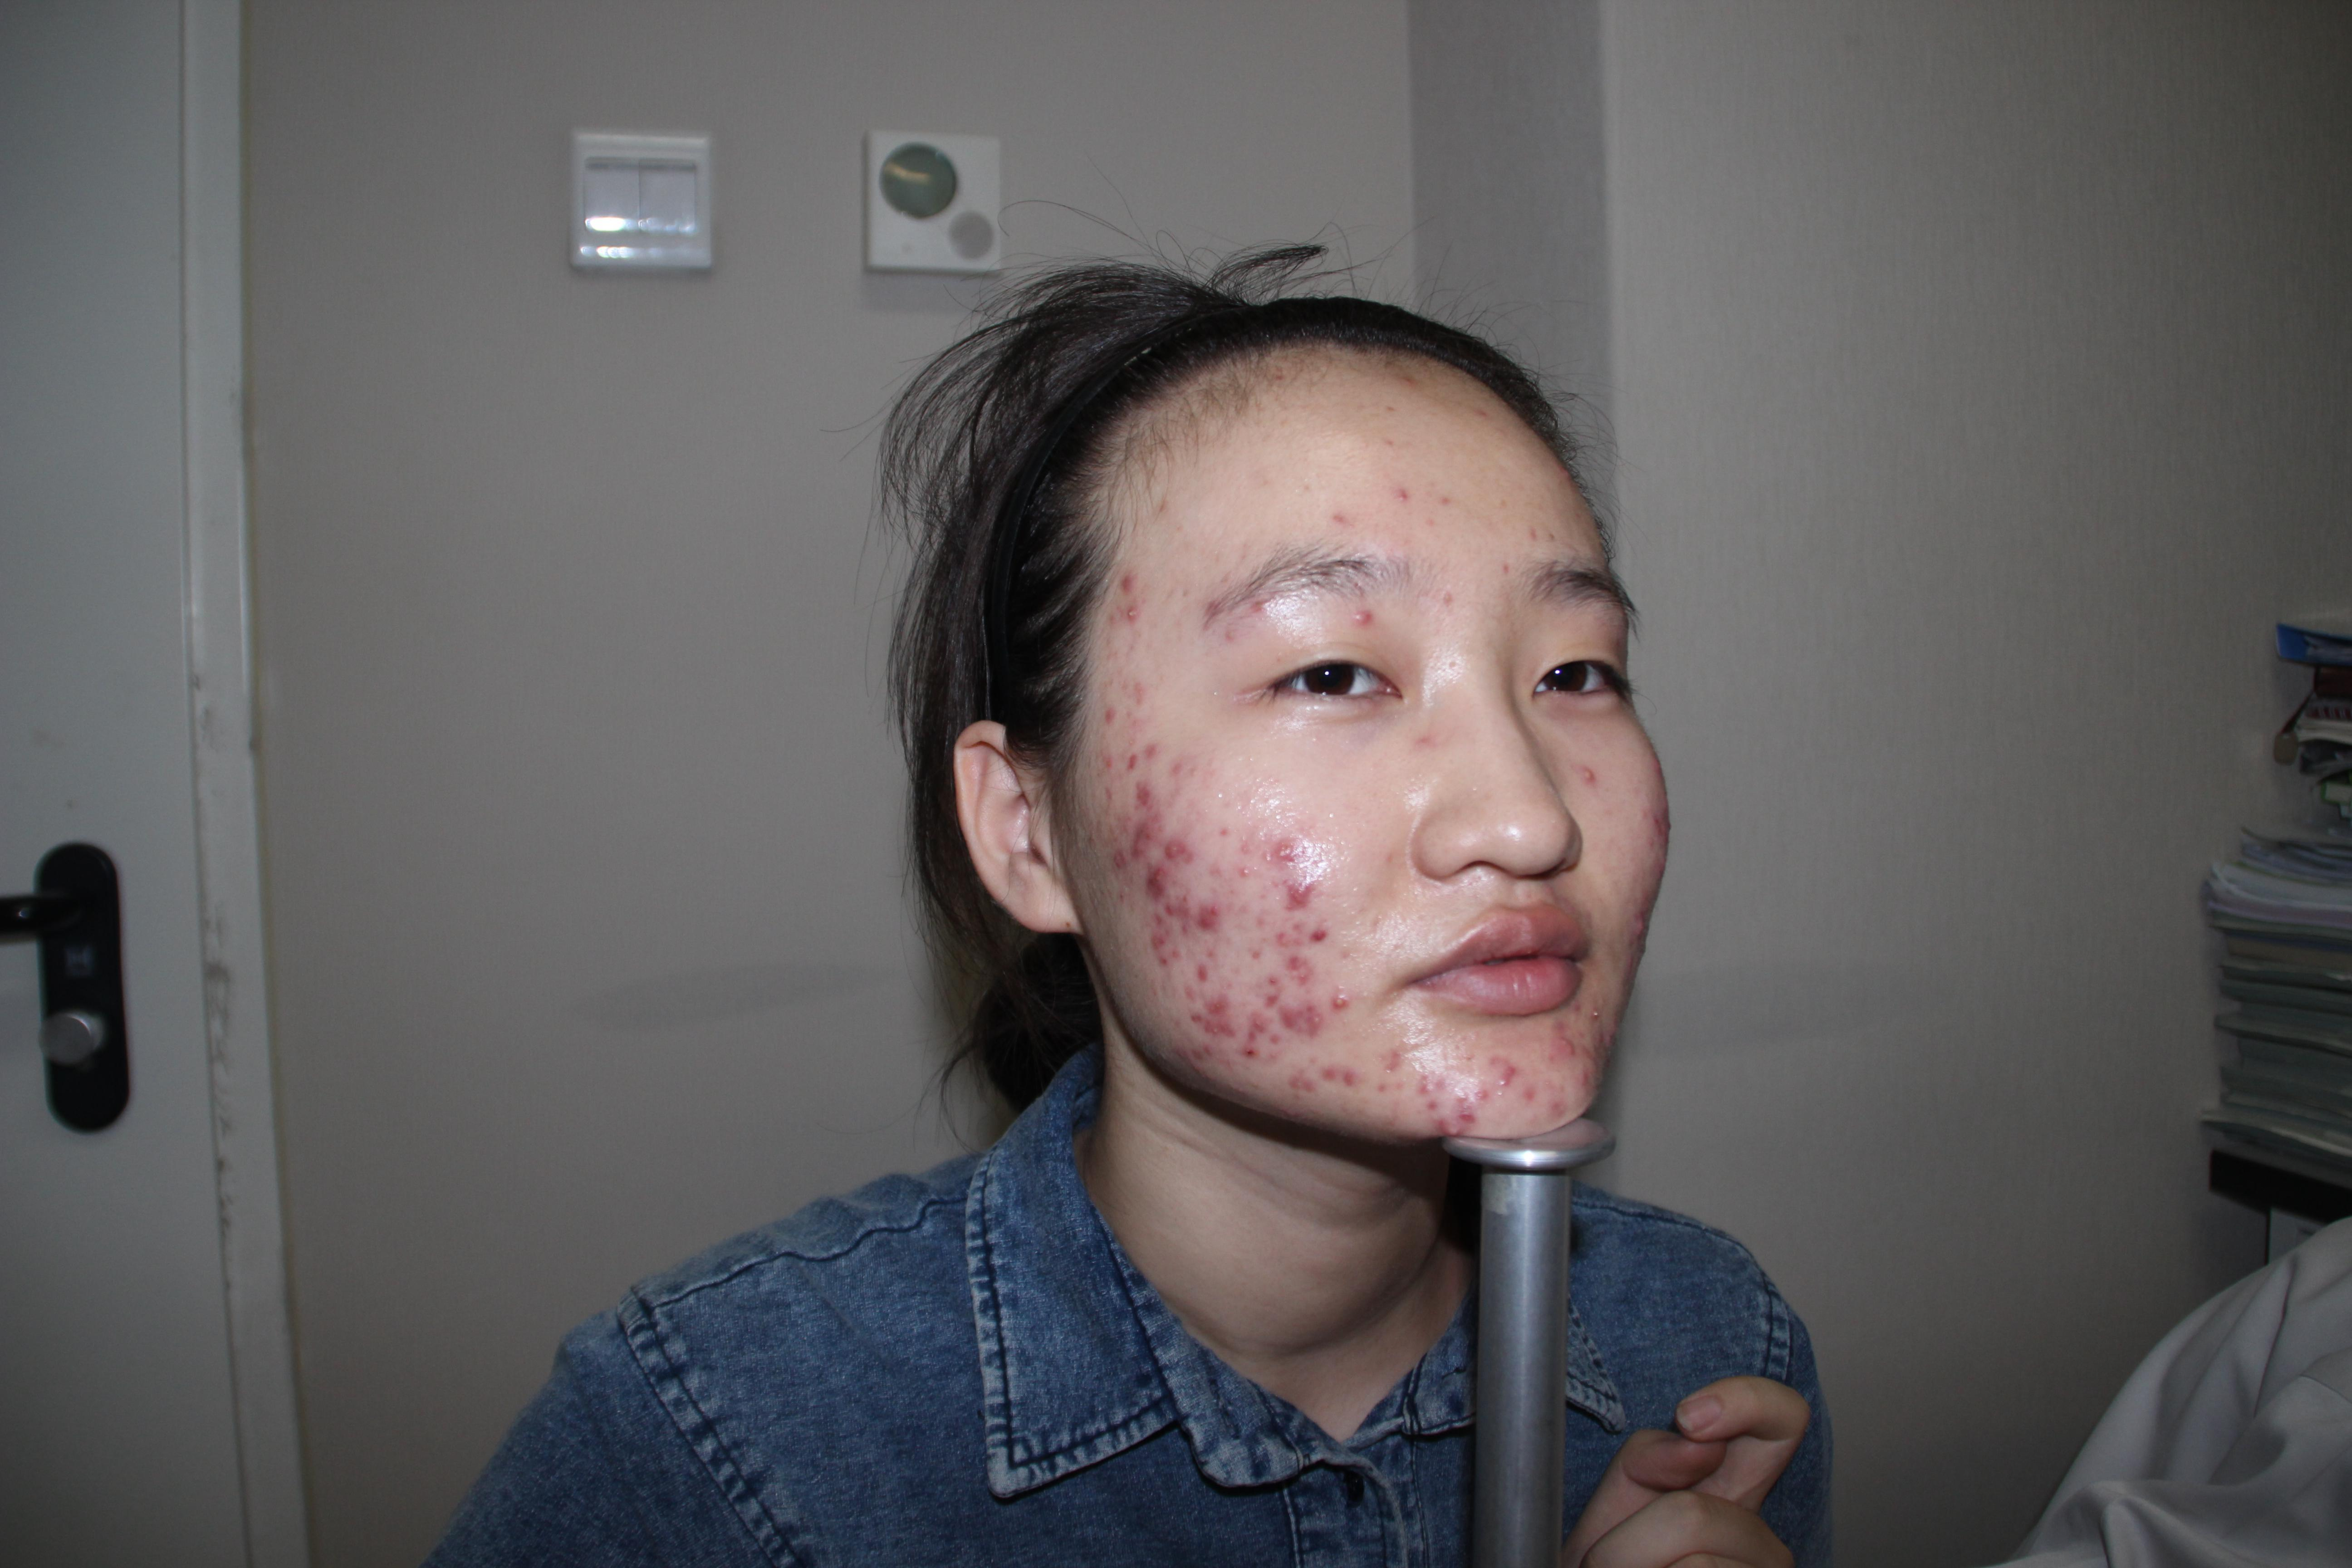fore: (1528, 1020, 1615, 1080), (1260, 915, 1313, 984), (1132, 856, 1200, 908), (1188, 892, 1244, 948), (1435, 1087, 1494, 1139), (1138, 915, 1188, 976), (1297, 1055, 1363, 1095), (1388, 474, 1424, 542), (1101, 730, 1166, 768), (1166, 992, 1216, 1040), (1241, 1015, 1276, 1083), (1325, 499, 1363, 558), (1160, 824, 1209, 868), (1094, 597, 1157, 630), (1169, 1041, 1220, 1081), (1244, 833, 1307, 865), (1117, 709, 1167, 747), (1566, 751, 1612, 793), (1395, 1015, 1428, 1071), (1272, 1052, 1304, 1108), (1106, 549, 1144, 593), (1291, 996, 1337, 1032), (1094, 684, 1125, 737), (1260, 984, 1313, 1015), (1281, 912, 1347, 936), (1129, 780, 1169, 817), (1279, 878, 1321, 914), (1411, 509, 1454, 542), (1129, 817, 1167, 854), (1409, 723, 1447, 759), (1206, 824, 1258, 851), (1543, 1095, 1591, 1123), (1412, 1055, 1447, 1092), (1089, 849, 1132, 877), (1209, 992, 1244, 1027), (1451, 1036, 1486, 1071), (1094, 773, 1157, 793), (1202, 593, 1234, 632), (1379, 1099, 1414, 1132), (1328, 980, 1368, 1008), (1183, 959, 1220, 989), (1375, 432, 1416, 458), (1521, 522, 1552, 555), (1419, 1092, 1451, 1125), (1141, 971, 1171, 1006), (1433, 486, 1468, 516), (1117, 681, 1166, 702), (1080, 828, 1111, 859), (1375, 843, 1407, 875), (1242, 938, 1272, 971), (1346, 607, 1383, 633), (1395, 369, 1432, 396), (1108, 884, 1141, 912), (1215, 623, 1249, 649), (1228, 859, 1265, 884), (1326, 942, 1363, 966), (1368, 1073, 1396, 1104), (1246, 597, 1285, 620), (1470, 402, 1500, 431), (1491, 1048, 1522, 1074), (1489, 555, 1521, 581), (1519, 1074, 1547, 1102), (1432, 586, 1458, 611), (1169, 759, 1195, 782)
